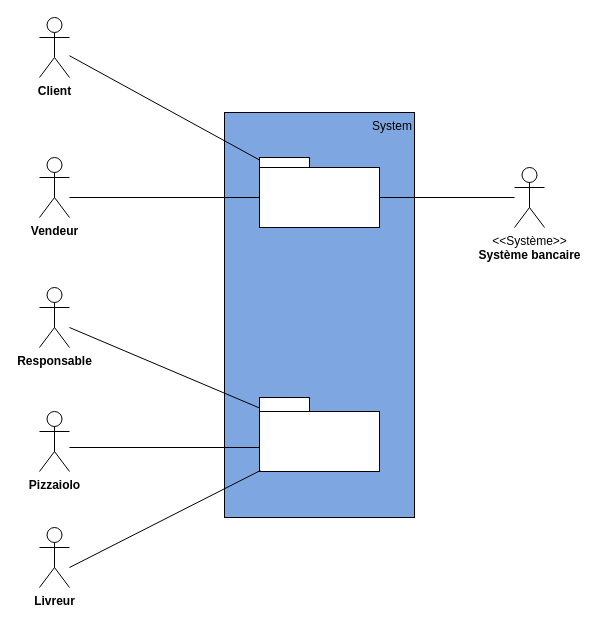
Image size: 598x641. Some labels were removed from this diagram. Each missing label, with the centre of its shape:
"Gestion des achats" goes at pixel 319 197.
"Gestion interne" goes at pixel 319 441.
